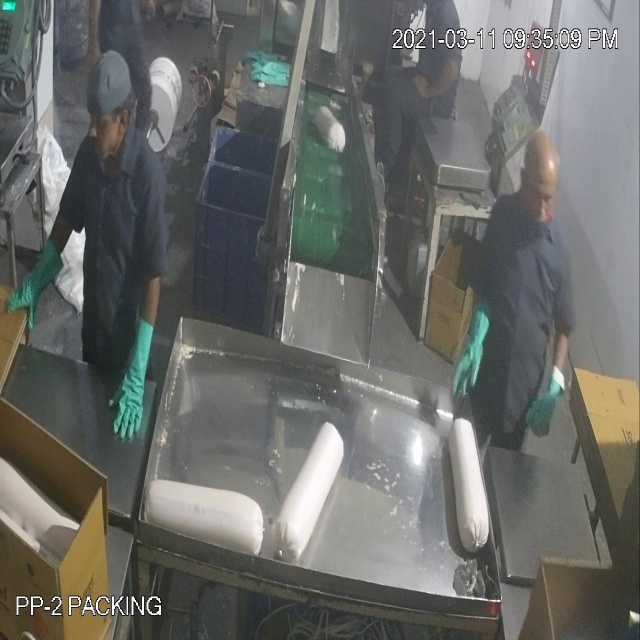Guantes: (430, 298, 493, 406), (111, 303, 154, 438)
Sin_guantes: (411, 53, 464, 108)
